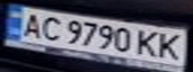0: (112, 25, 136, 54)
7: (78, 20, 100, 48)
9: (60, 17, 84, 45), (96, 21, 115, 51)
A: (18, 9, 45, 38)
C: (36, 14, 66, 43)
K: (154, 30, 187, 61), (133, 28, 160, 58)
